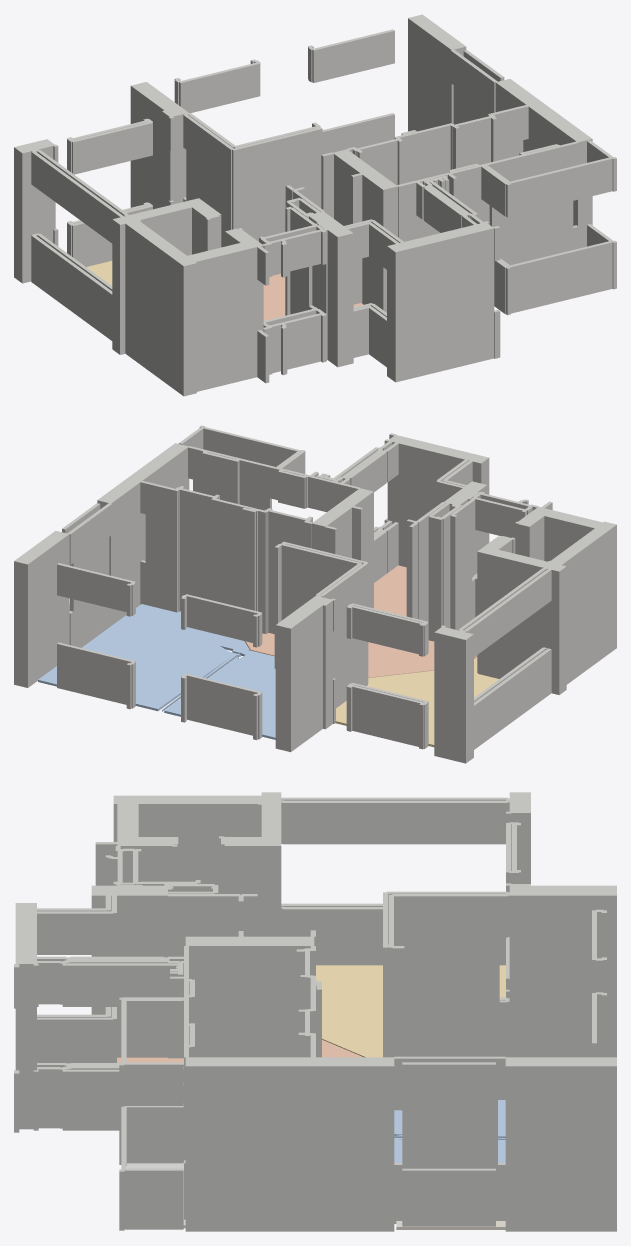
3 views of the same model, one above another, from view 1: azimuth 30°, elevation 25°; view 2: azimuth 150°, elevation 25°; view 3: azimuth 270°, elevation 25° (orthographic). The views are drawn at different scales.
Parts seen in each view (by area): view 1: walls, room:kitchen:8; view 2: walls, room:bedroom:1, room:bedroom:0, room:living:7, room:kitchen:8, room:kitchen:5; view 3: walls, room:living:7.
Part boxes in pixels (x1=…): walls: x1=14, y1=14, x2=616, y2=396; room:kitchen:8: x1=263, y1=273, x2=363, y2=320; walls: x1=14, y1=425, x2=616, y2=763; room:bedroom:1: x1=38, y1=604, x2=249, y2=711; room:bedroom:0: x1=164, y1=650, x2=275, y2=739; room:living:7: x1=335, y1=657, x2=498, y2=747; room:kitchen:8: x1=244, y1=633, x2=477, y2=677; room:kitchen:5: x1=374, y1=565, x2=406, y2=616; walls: x1=14, y1=792, x2=616, y2=1231; room:living:7: x1=316, y1=965, x2=505, y2=1057.
Bounding box in the file's own units: 9.96 × 2.8 × 9.26.
